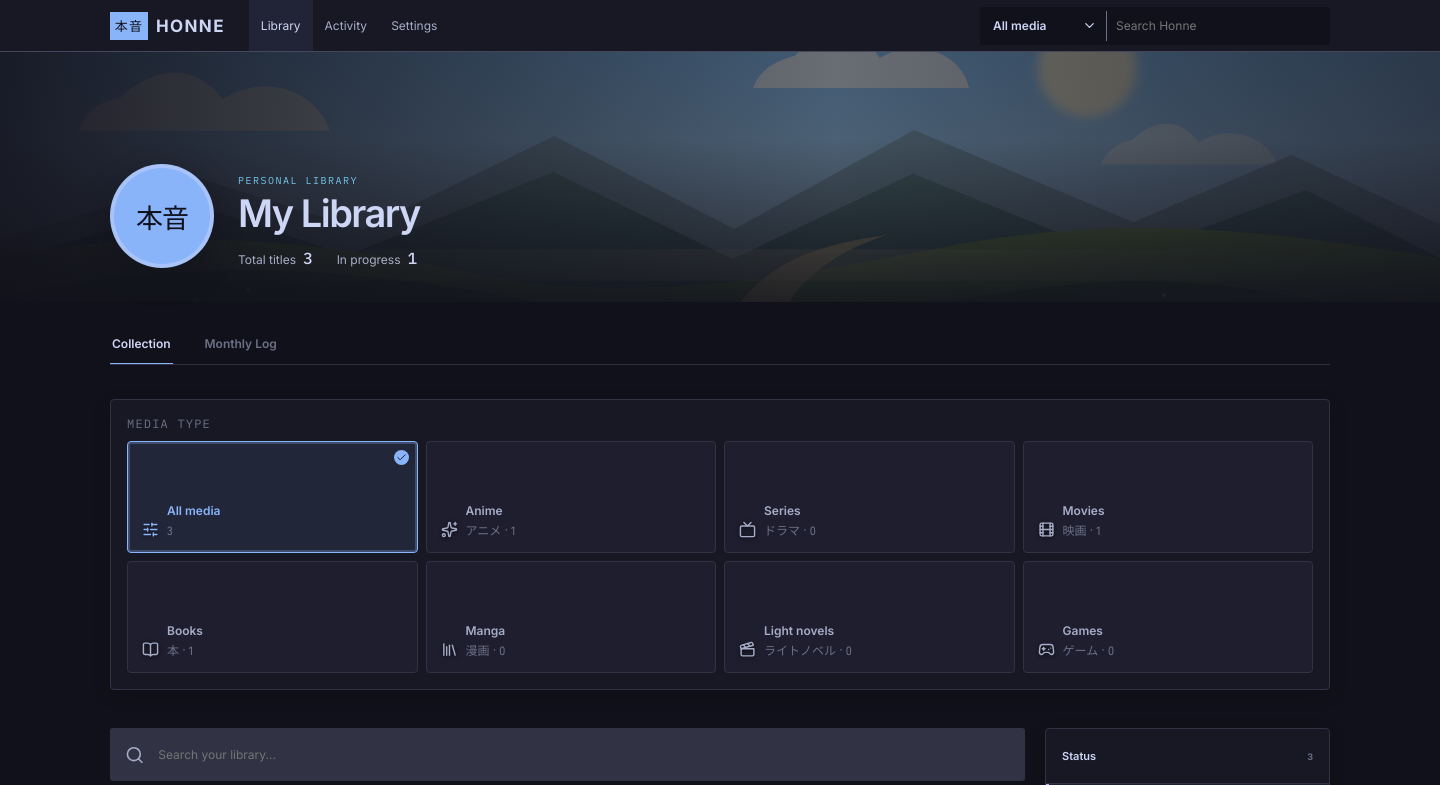
Library characterization › cancels suggestions and hides stale results when the scope changes
Type "Nar" into the dropdown labelled "Search Honne" at [1216, 26], box left=1114, top=17, right=1319, bottom=34
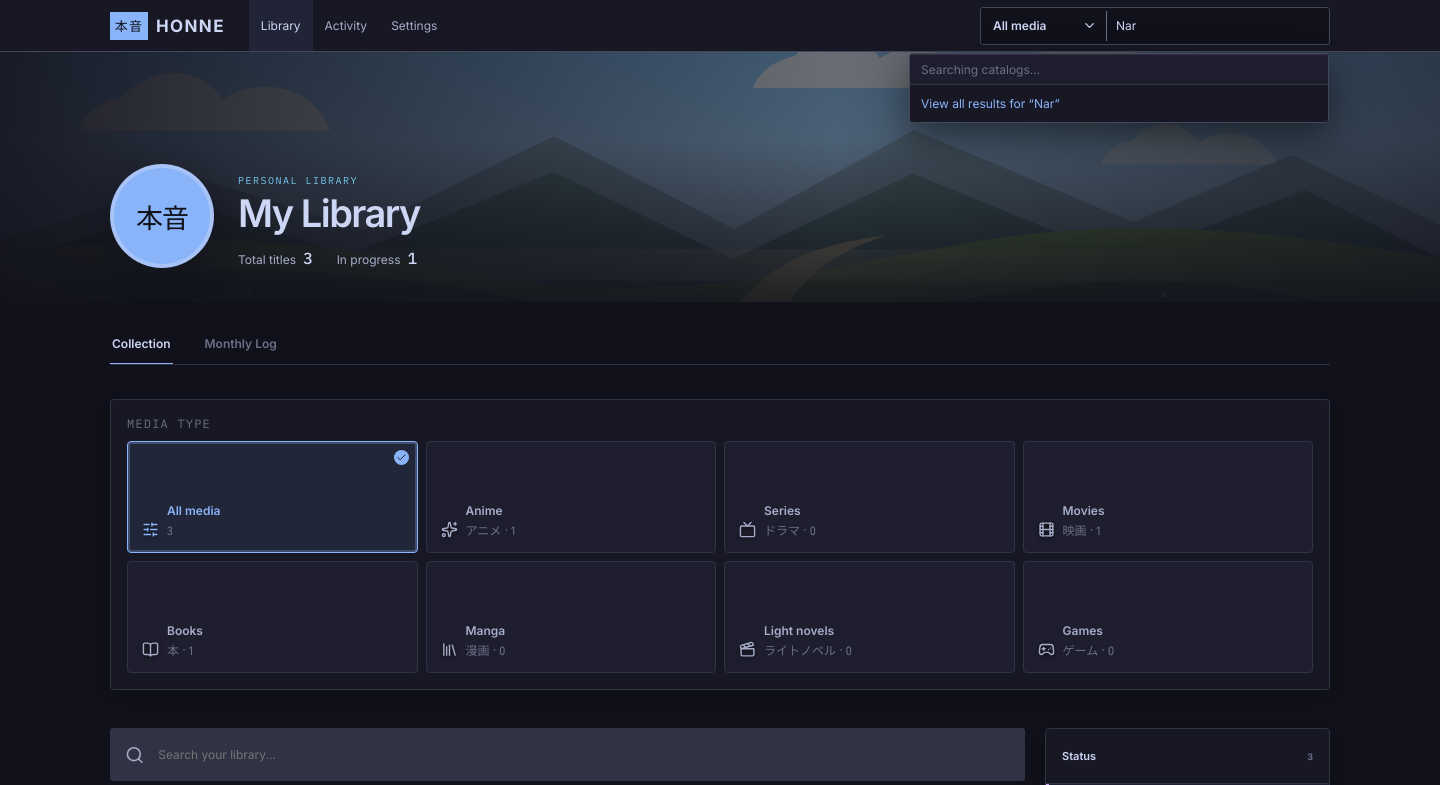
Click the button named "Search media type: All media" at [1048, 26], box left=991, top=10, right=1106, bottom=40
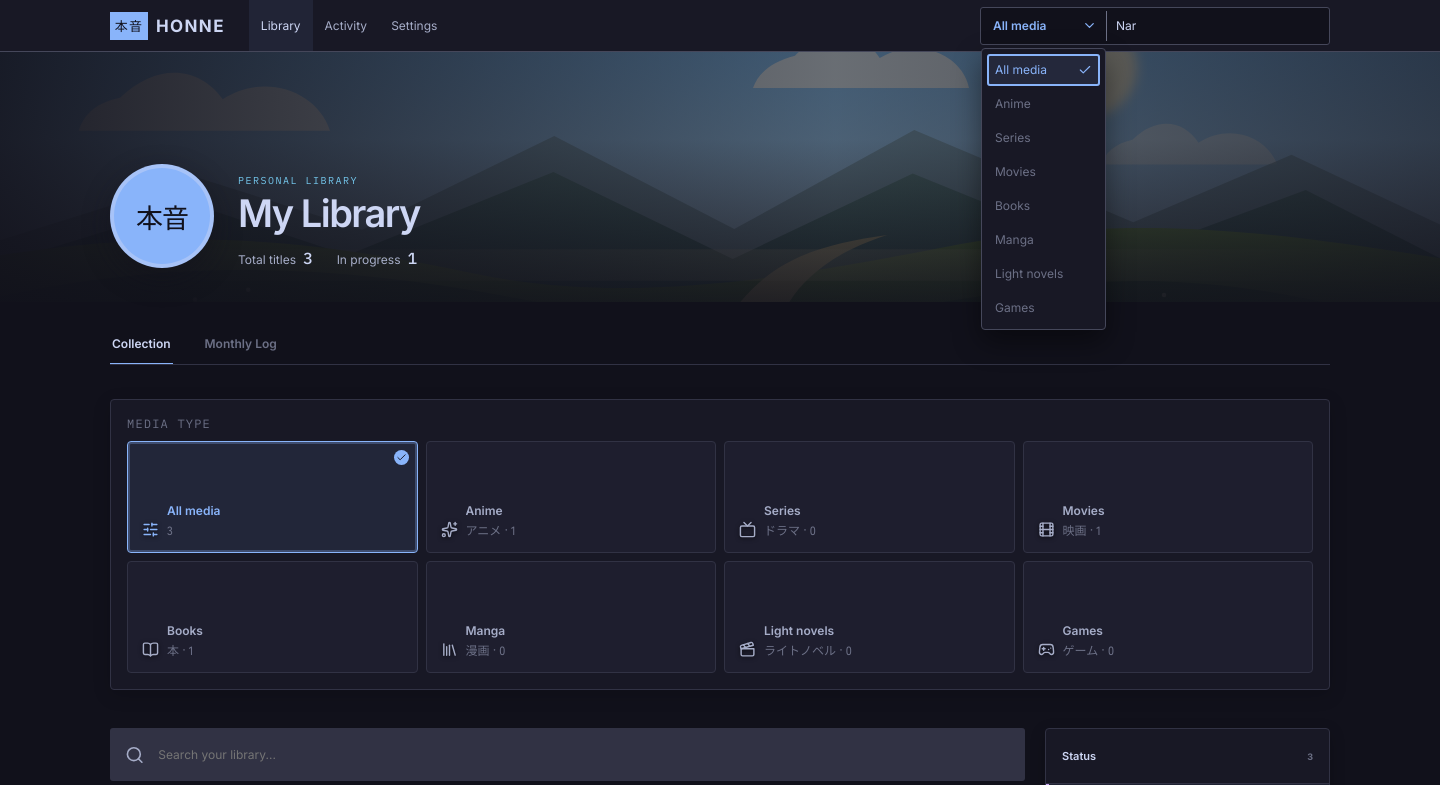
Click the option "Anime" at [1044, 104], box left=987, top=88, right=1100, bottom=120
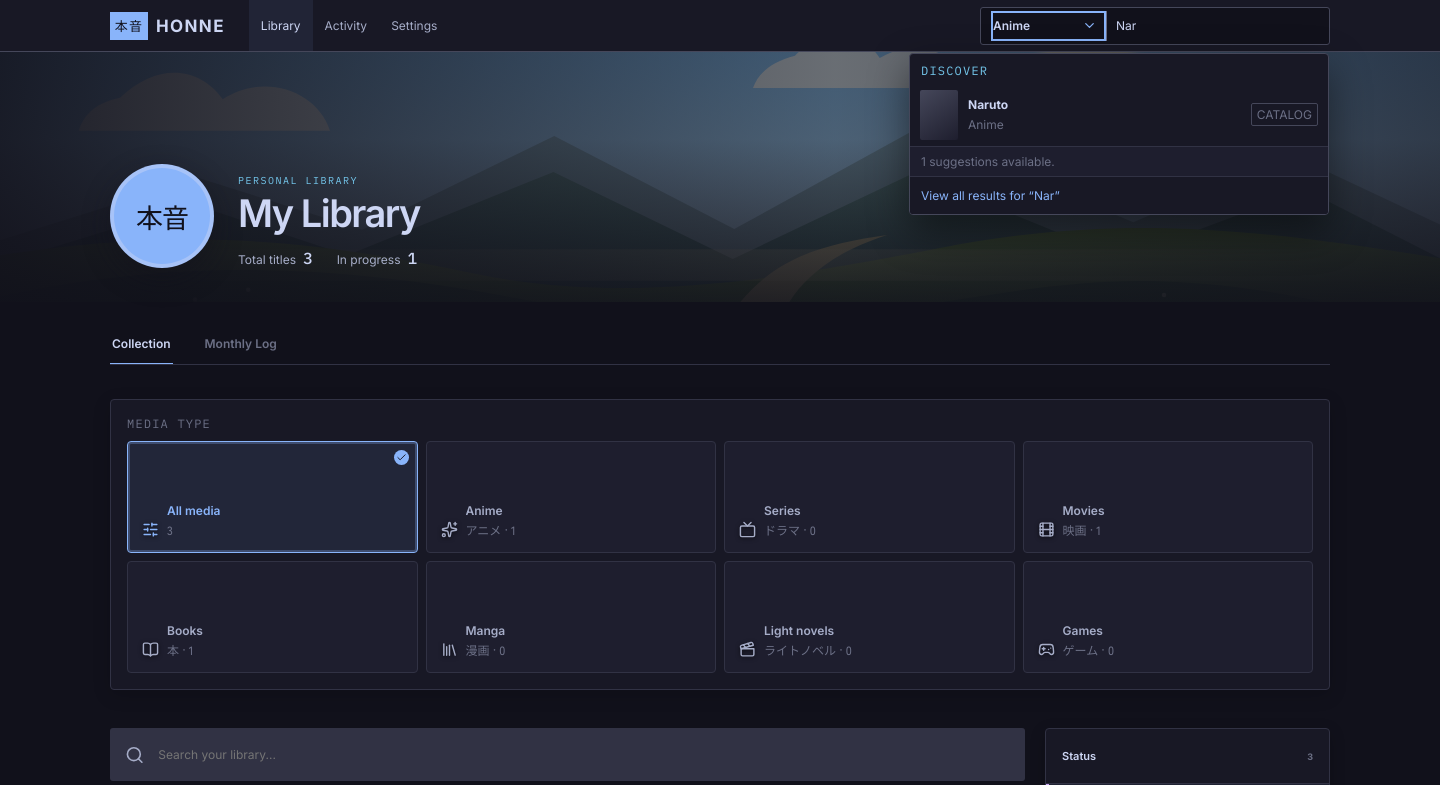
Expected: the option "Naruto Anime Catalog" is shown, left=910, top=84, right=1328, bottom=146
